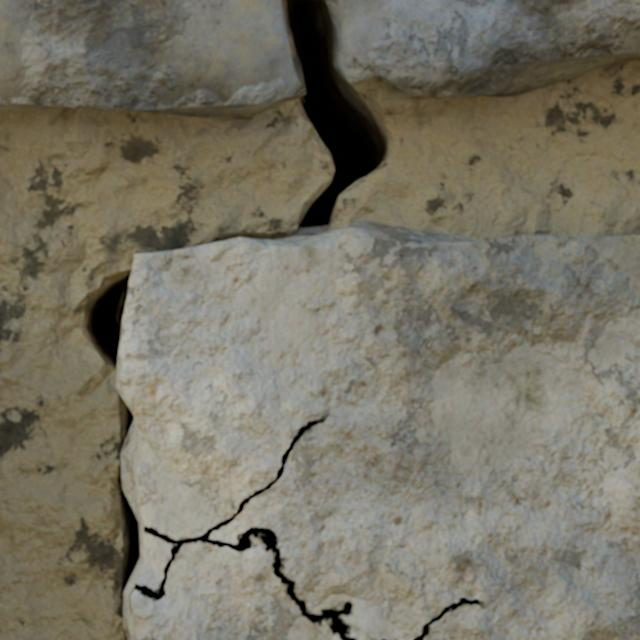broken_brick: (0, 0, 305, 117), (336, 0, 639, 98)
crack: (75, 0, 639, 639)
